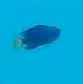smallfish: (12, 19, 68, 59)
